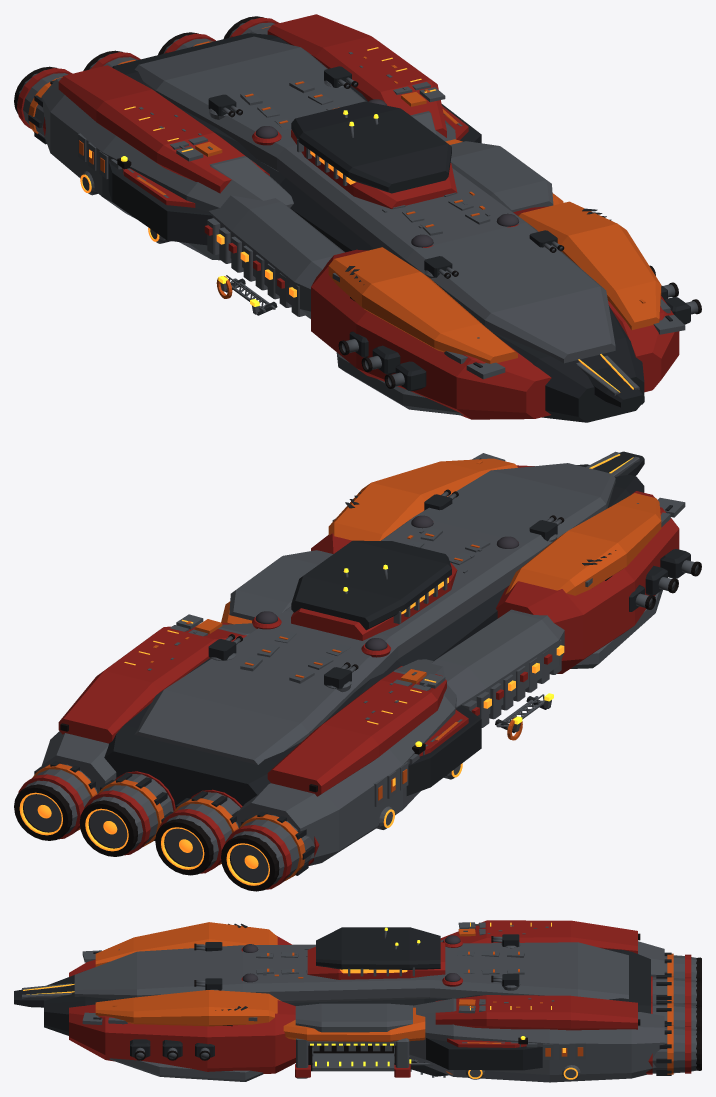
The model's file is cinder_mothership_hull.glb.
3 views of the same model, one above another, from view 1: azimuth 30°, elevation 25°; view 2: azimuth 150°, elevation 25°; view 3: azimuth 270°, elevation 25° (orthographic). The views are drawn at different scales.
Visible parts, largest first — view 1: Keel and armored dorsal spine, Port prow armor, Port aft shoulder and service panels, Command bridge and panoramic optics, Starboard prow armor, Port structural bulkhead, Starboard aft shoulder and service panels, Forward rail battery and broadside hardpoints, Hangar canopy and armored mouth, Port swept thermal radiator, Dorsal and ventral turret batteries, Main drive nacelle 01 (+5 smaller); view 2: Keel and armored dorsal spine, Port aft shoulder and service panels, Port prow armor, Command bridge and panoramic optics, Starboard aft shoulder and service panels, Port structural bulkhead, Starboard prow armor, Main drive nacelle 03, Main drive nacelle 01, Main drive nacelle 02, Main drive nacelle 04, Hangar canopy and armored mouth (+6 smaller); view 3: Keel and armored dorsal spine, Starboard prow armor, Starboard aft shoulder and service panels, Command bridge and panoramic optics, Hangar canopy and armored mouth, Port aft shoulder and service panels, Port prow armor, Starboard swept thermal radiator, Recessed hangar interior and landing deck, Main drive nacelle 04, Forward rail battery and broadside hardpoints, Main drive nacelle 02 (+6 smaller).
Part boxes in pixels (x1,y1,x2,y2): Keel and armored dorsal spine: [112, 33, 644, 422]; Port prow armor: [311, 247, 551, 419]; Port aft shoulder and service panels: [41, 65, 293, 260]; Command bridge and panoramic optics: [291, 101, 457, 208]; Starboard prow armor: [513, 201, 685, 392]; Port structural bulkhead: [204, 195, 344, 318]; Starboard aft shoulder and service panels: [250, 14, 462, 141]; Forward rail battery and broadside hardpoints: [338, 265, 701, 409]; Hangar canopy and armored mouth: [445, 139, 563, 212]; Port swept thermal radiator: [108, 161, 212, 245]; Dorsal and ventral turret batteries: [208, 66, 564, 278]; Main drive nacelle 01: [14, 66, 72, 144]; Keel and armored dorsal spine: [104, 463, 644, 806]; Port aft shoulder and service panels: [236, 659, 462, 865]; Port prow armor: [496, 491, 685, 673]; Command bridge and panoramic optics: [291, 540, 457, 640]; Starboard aft shoulder and service panels: [41, 614, 256, 793]; Port structural bulkhead: [431, 609, 564, 727]; Starboard prow armor: [311, 453, 534, 553]; Main drive nacelle 03: [79, 771, 175, 856]; Main drive nacelle 01: [221, 811, 319, 891]; Main drive nacelle 02: [155, 789, 242, 875]; Main drive nacelle 04: [14, 761, 97, 840]; Hangar canopy and armored mouth: [221, 550, 333, 624]; Keel and armored dorsal spine: [44, 942, 650, 1035]; Starboard prow armor: [69, 990, 295, 1081]; Starboard aft shoulder and service panels: [409, 995, 664, 1082]; Command bridge and panoramic optics: [307, 927, 445, 979]; Hangar canopy and armored mouth: [283, 1003, 425, 1078]; Port aft shoulder and service panels: [440, 920, 664, 977]; Port prow armor: [69, 922, 292, 976]; Starboard swept thermal radiator: [426, 1038, 542, 1070]; Recessed hangar interior and landing deck: [308, 1045, 395, 1071]; Main drive nacelle 04: [646, 1023, 701, 1075]; Forward rail battery and broadside hardpoints: [14, 983, 214, 1060]; Main drive nacelle 02: [651, 975, 701, 1006].
Size of the model in its own units: 320 by 190 by 850.
